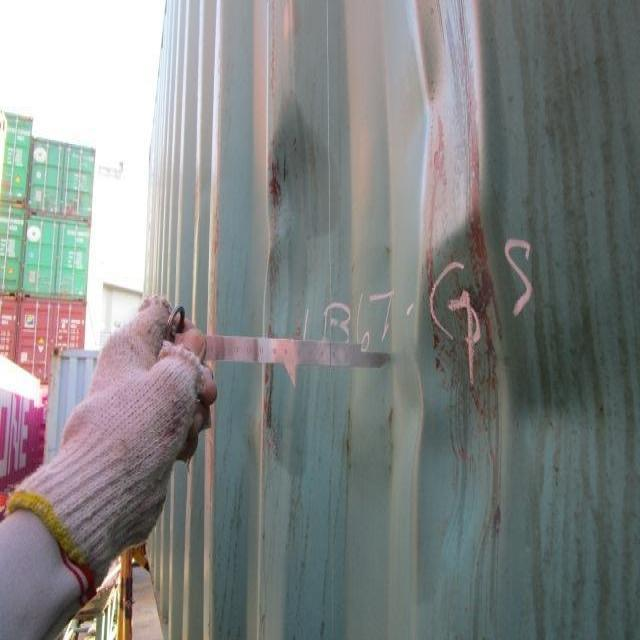dent: (209, 122, 594, 572)
